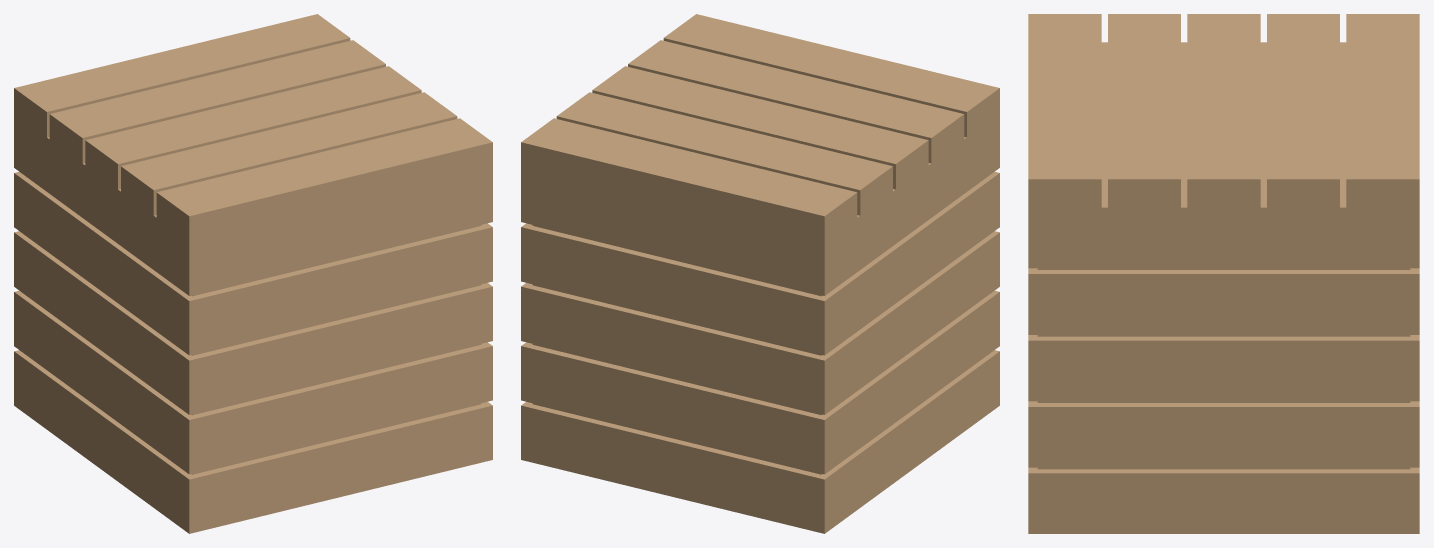
File: all_wood_seat.fbx
3 views of the same model, side by side, from view 1: azimuth 30°, elevation 25°; view 2: azimuth 150°, elevation 25°; view 3: azimuth 270°, elevation 25° (orthographic). The views are drawn at different scales.
Visible parts, largest first — view 1: Module_Full_Wood, Module_Full_Wood_Core; view 2: Module_Full_Wood, Module_Full_Wood_Core; view 3: Module_Full_Wood, Module_Full_Wood_Core.
Boxes of the visible parts, bbox=[...] form: Module_Full_Wood: bbox=[14, 14, 492, 533]; Module_Full_Wood_Core: bbox=[191, 225, 481, 474]; Module_Full_Wood: bbox=[521, 14, 999, 533]; Module_Full_Wood_Core: bbox=[532, 225, 822, 474]; Module_Full_Wood: bbox=[1028, 14, 1419, 533]; Module_Full_Wood_Core: bbox=[1037, 46, 1410, 469].
Size of the model in its own units: 50 by 50 by 50.
